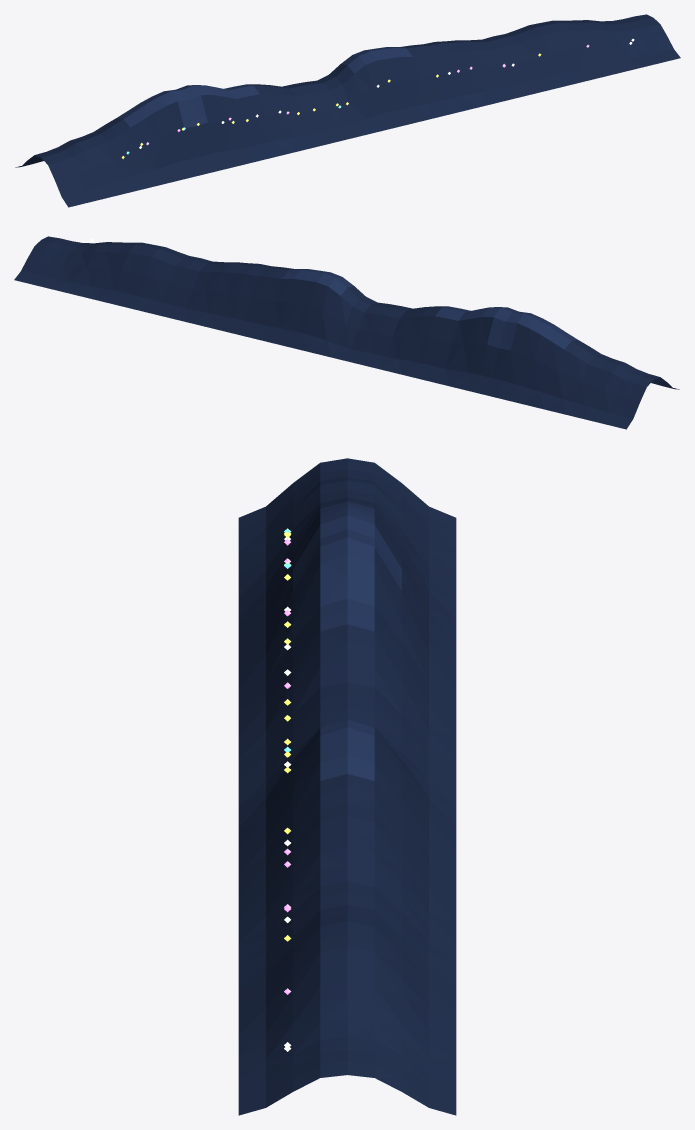
File: W1_Far_Hills.fbx
3 views of the same model, one above another, from view 1: azimuth 30°, elevation 25°; view 2: azimuth 150°, elevation 25°; view 3: azimuth 270°, elevation 25° (orthographic). The views are drawn at different scales.
Parts seen in each view (by area): view 1: W1_Far_Hills; view 2: W1_Far_Hills; view 3: W1_Far_Hills.
Part boxes in pixels (left/top/right/bottom): W1_Far_Hills: left=15, top=14, right=680, bottom=207; W1_Far_Hills: left=14, top=236, right=679, bottom=429; W1_Far_Hills: left=238, top=458, right=456, bottom=1115.
Size of the model in its own units: 520 by 52.63 by 80.
